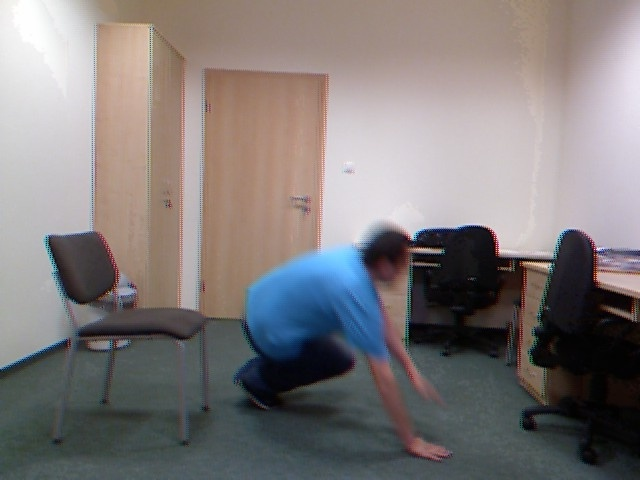fall: (228, 216, 457, 473)
